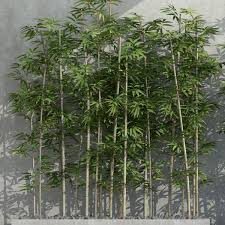bamboo: (23, 6, 207, 210)
